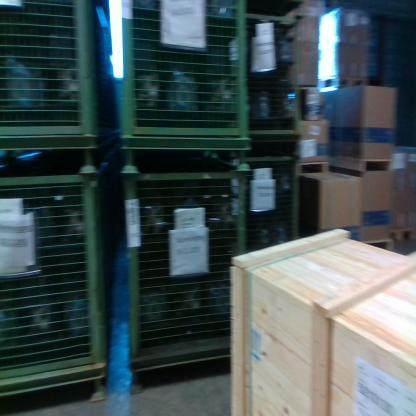pallets: (316, 75, 371, 94)
